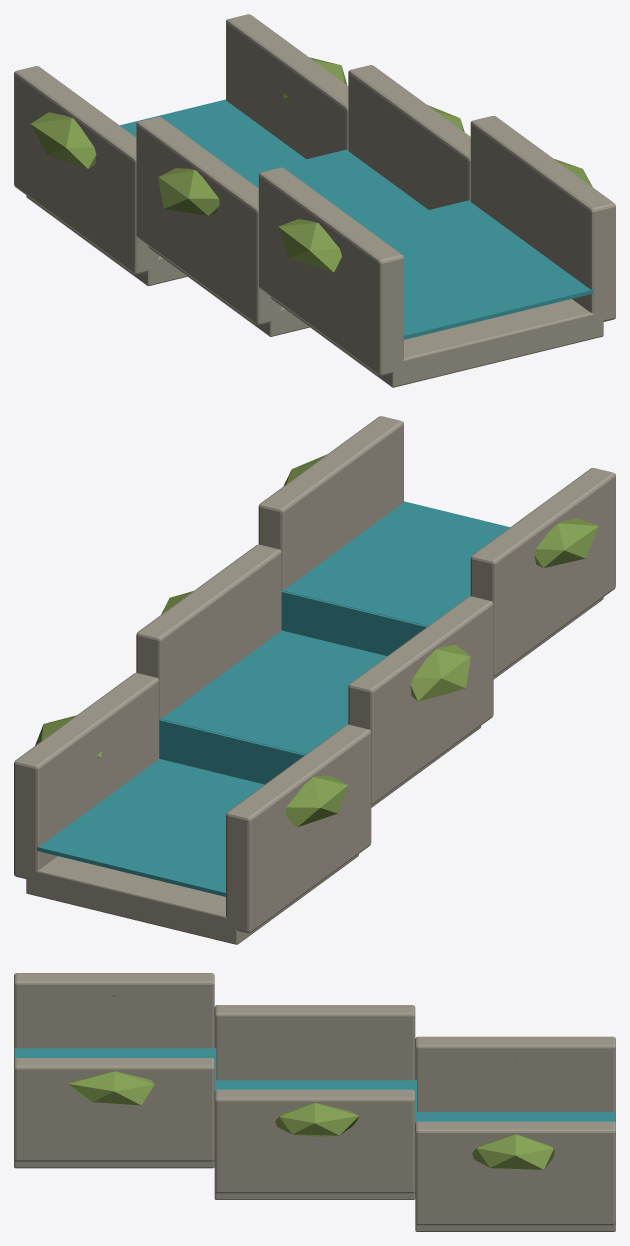
File: Channel_Spillway_Reclaimed.glb
3 renders of one model, top to bottom at view 1: azimuth 30°, elevation 25°; view 2: azimuth 150°, elevation 25°; view 3: azimuth 270°, elevation 25°, orthographic. The views are drawn at different scales.
Parts seen in each view (by area): view 1: Structure, Water, Growth; view 2: Structure, Water, Growth; view 3: Structure, Growth, Water.
Boxes of the visible parts, bbox=[...] form: Structure: bbox=[14, 14, 615, 387]; Water: bbox=[120, 99, 592, 339]; Growth: bbox=[30, 57, 592, 272]; Structure: bbox=[14, 416, 615, 944]; Water: bbox=[37, 501, 509, 896]; Growth: bbox=[35, 454, 598, 827]; Structure: bbox=[14, 973, 615, 1231]; Growth: bbox=[69, 994, 554, 1169]; Water: bbox=[14, 1047, 615, 1194].
Size of the model in its own units: 2.83 by 1.88 by 6.
